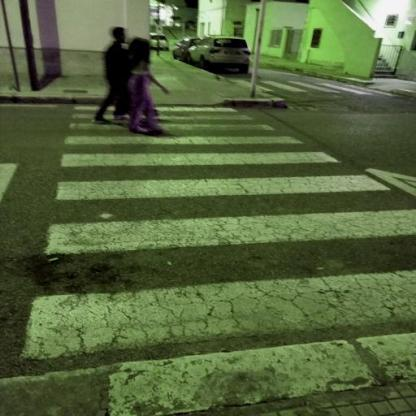crosswalk: (39, 146, 390, 212), (67, 104, 262, 124)
